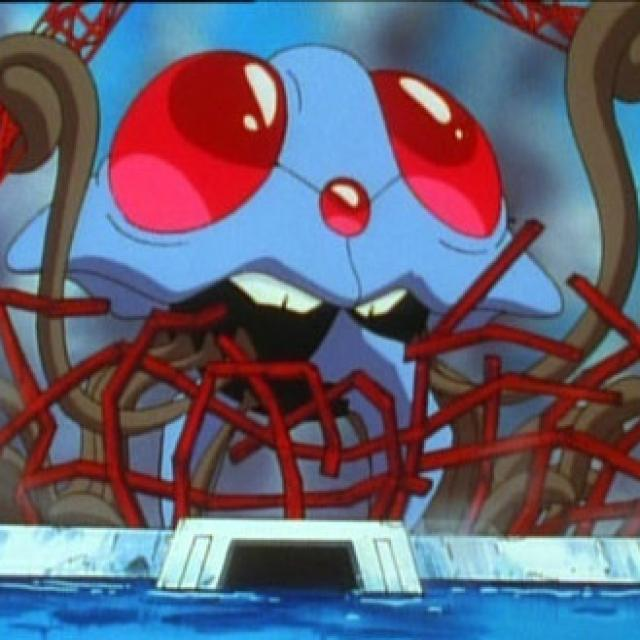Tentacruel: (87, 48, 569, 442)
